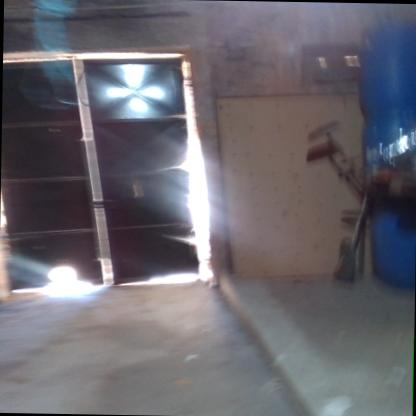closed: (0, 41, 210, 316)
